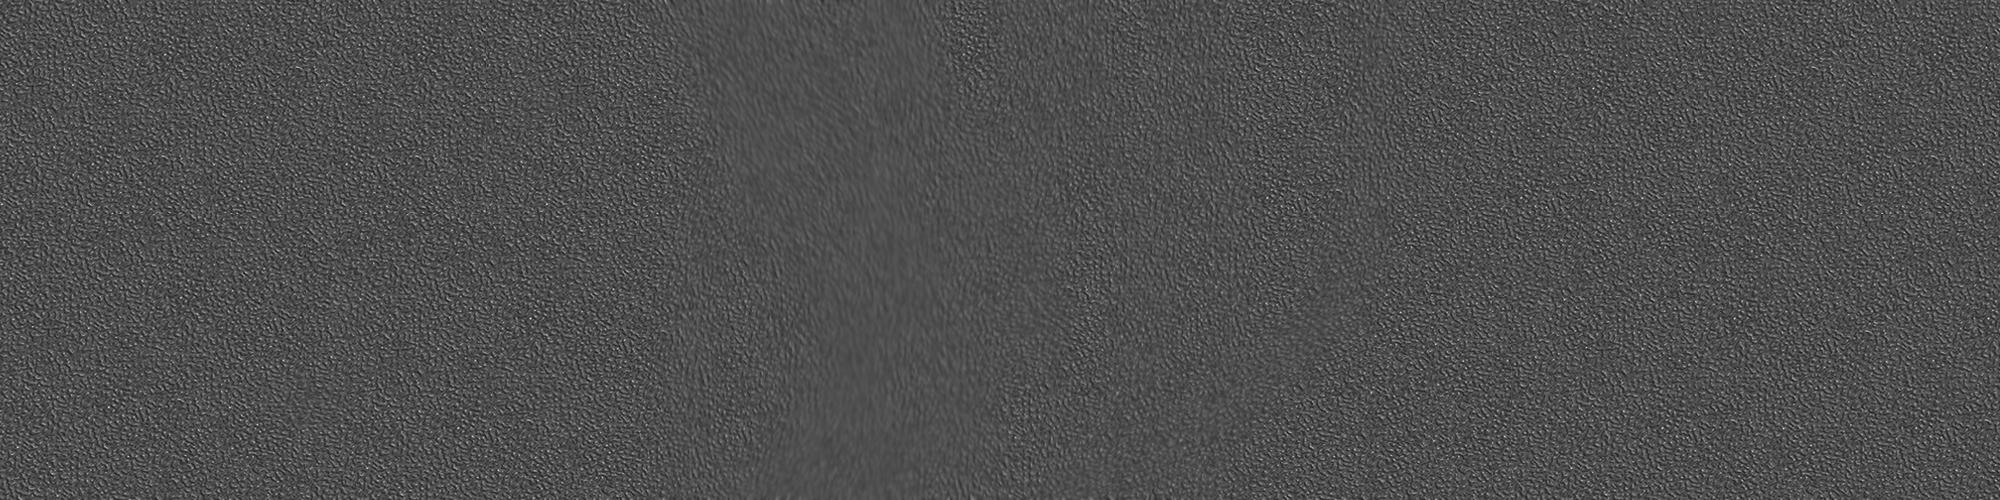Flow_Lines: (626, 18, 1043, 497)
